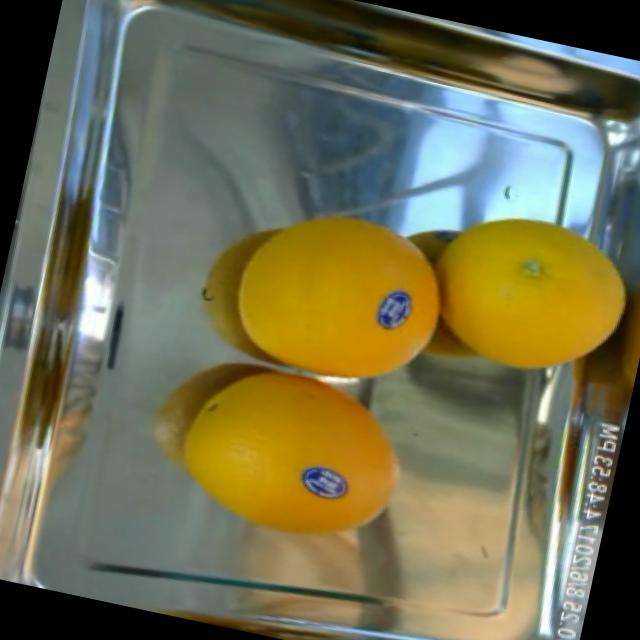Fruit: (408, 180, 640, 408)
